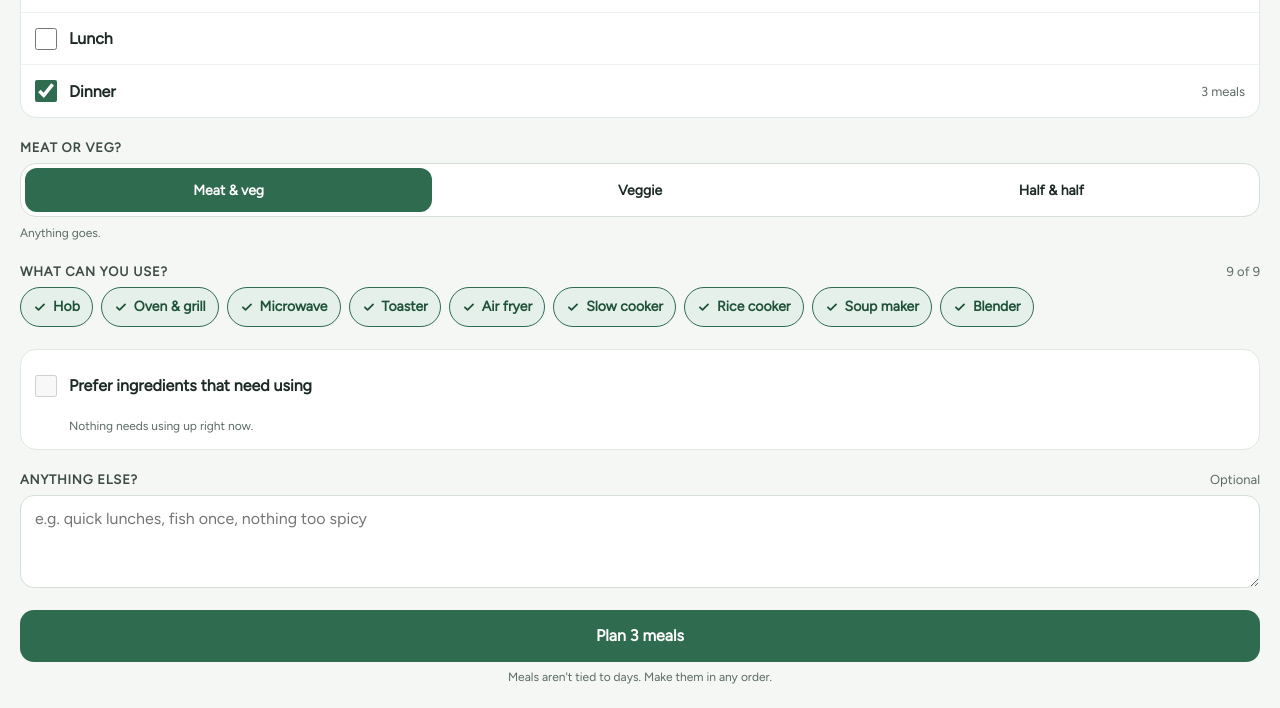
it: Plan meals: choose › a refusal (the limit, nothing in stock) is shown in the API's words and the form stays
The width and height of the screenshot is (1280, 708).
(page scrolled)
Click the button "Plan 3 meals" at point(640, 636), box [20,610,1260,662]
(page scrolled)
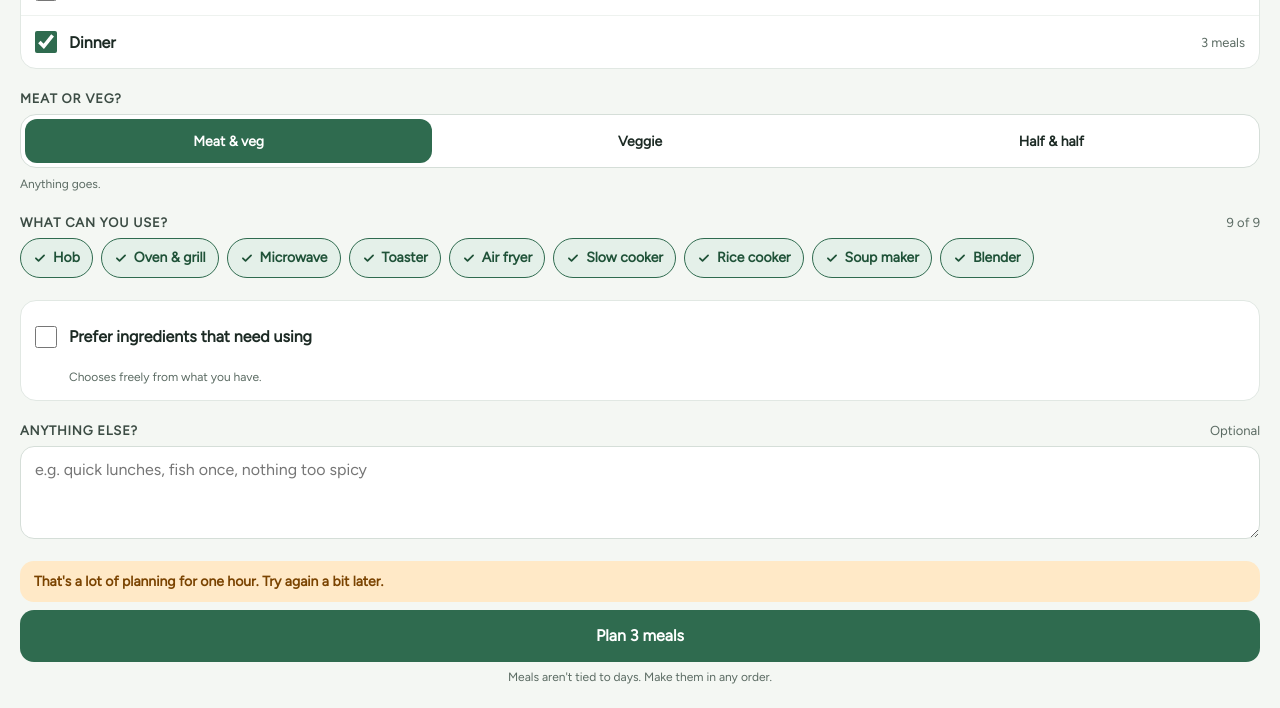
Check: the message reads "That's a lot of planning for one hour. Try again a bit later.", box [34,573,383,590]
